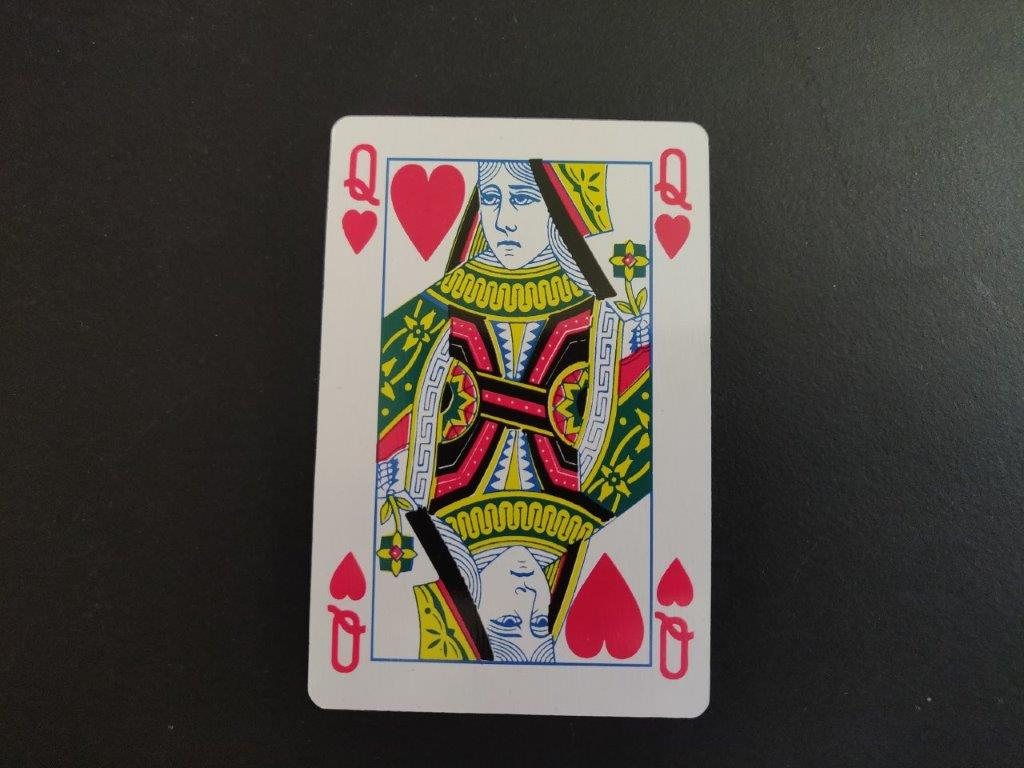QH: (651, 142, 695, 261), (338, 141, 384, 253)
